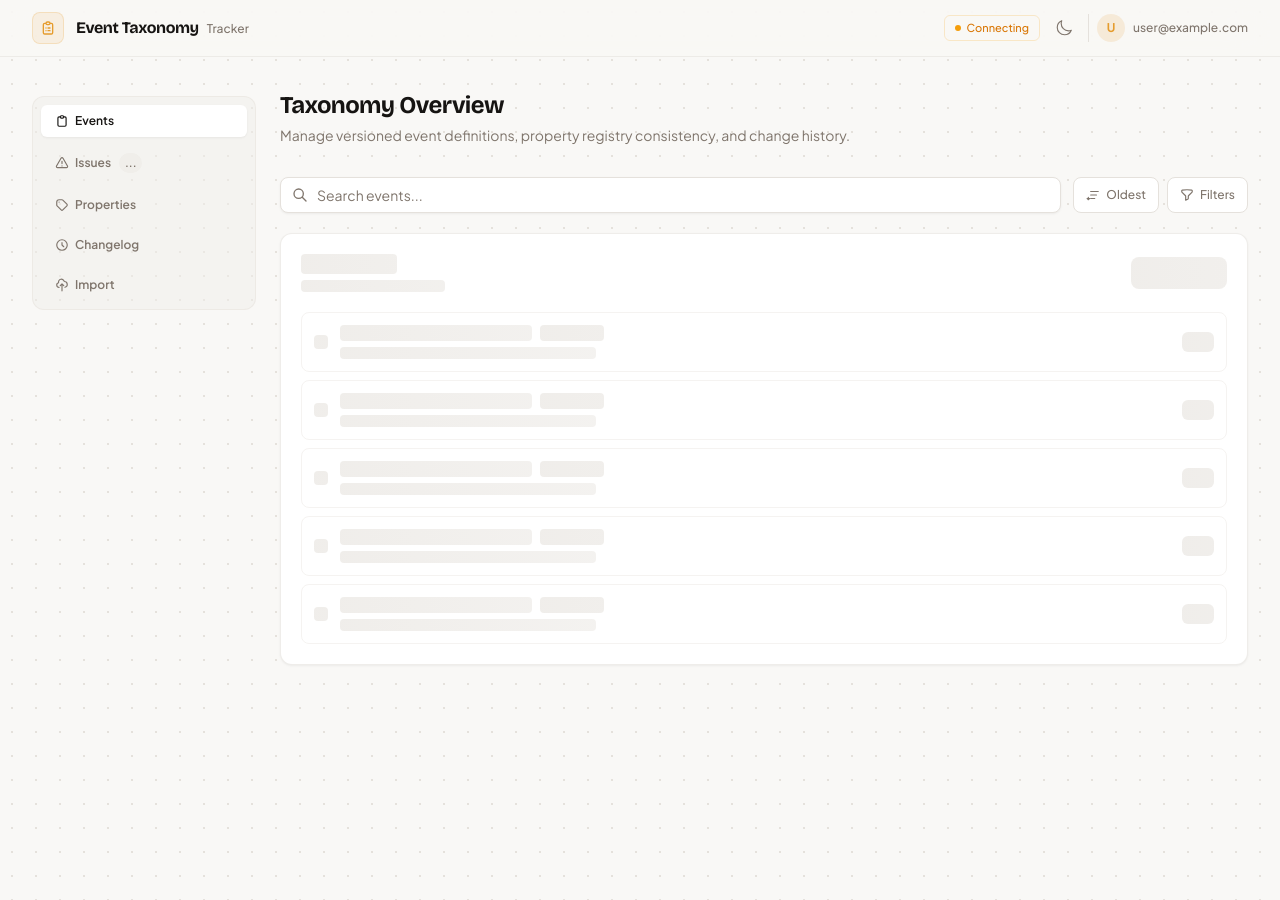
Scenario: App › shows search/sort/filter controls only on the Events tab
Check: the field with placeholder "Search events..." is shown, box top-left (280, 177), bottom-right (1061, 213)
Check: the button with aria-label "toggle sort order" is shown, box top-left (1073, 177), bottom-right (1159, 213)
Click the button "Properties".
click(144, 205)  # box top-left (41, 189), bottom-right (247, 221)
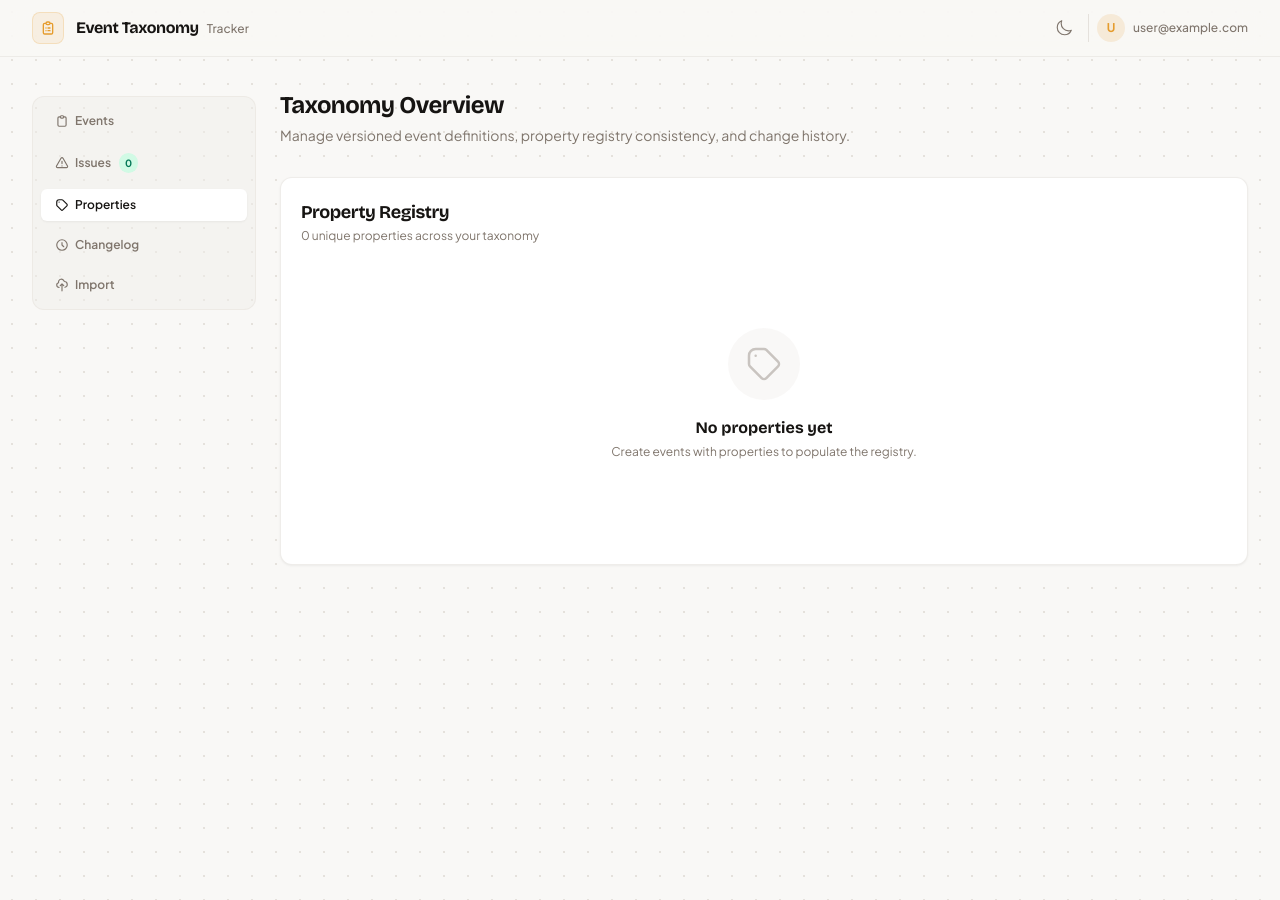
Check: the field with placeholder "Search events..." is not shown
Check: the button "Filters" is gone
